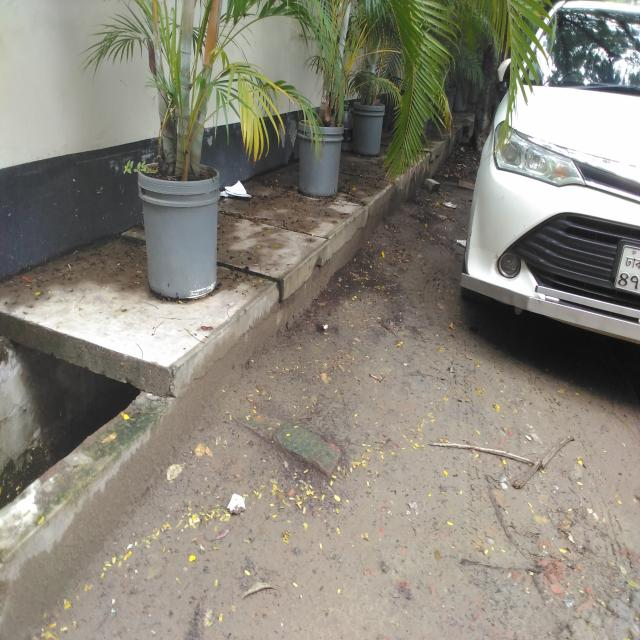artificial_container: (135, 155, 224, 303), (294, 118, 346, 202), (347, 99, 387, 159)
